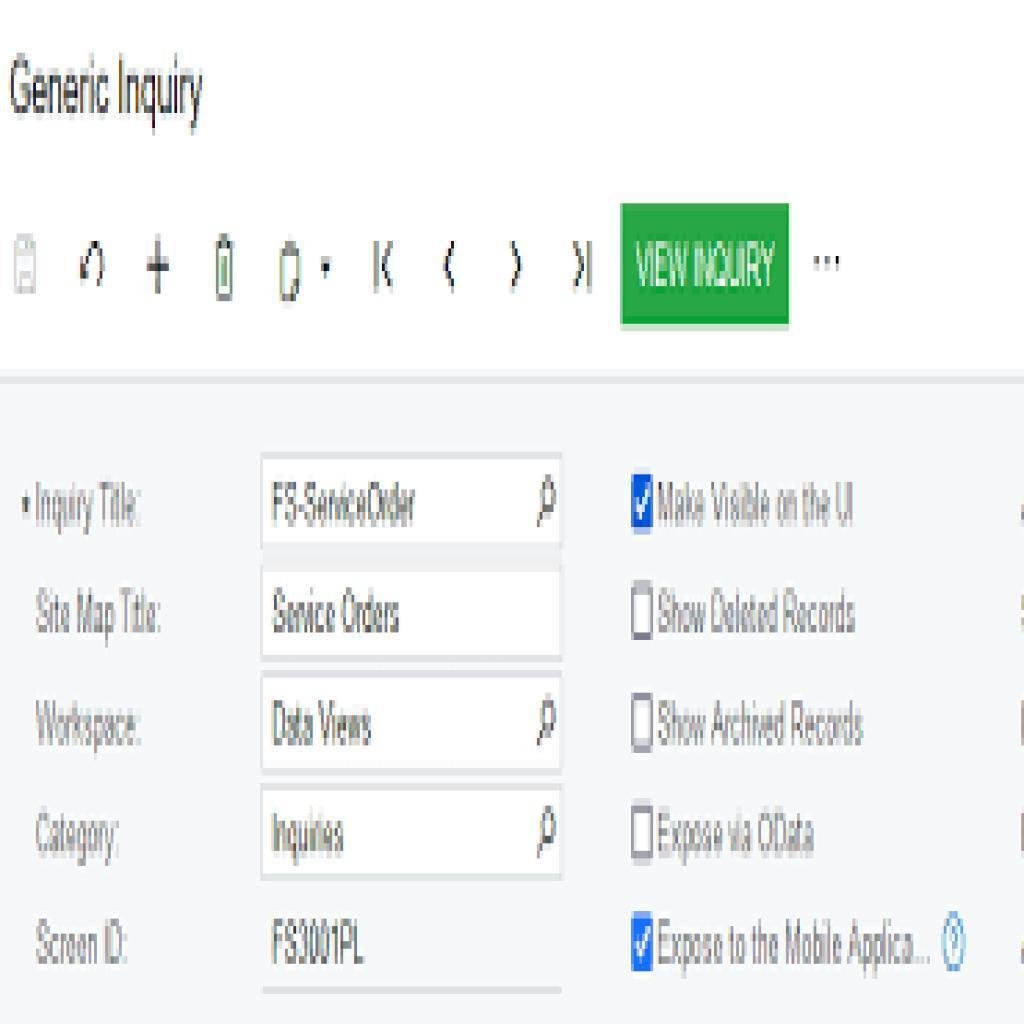button: (619, 205, 788, 325)
checkbox: (631, 692, 657, 753), (630, 912, 657, 969), (630, 584, 656, 638), (631, 807, 657, 861), (632, 475, 656, 529)
icon: (356, 226, 404, 307), (7, 221, 51, 303), (270, 232, 312, 309), (67, 224, 109, 299), (142, 230, 174, 311), (209, 228, 242, 304), (491, 235, 531, 297), (567, 230, 602, 300), (440, 233, 469, 302), (806, 241, 847, 283), (534, 694, 558, 757), (536, 802, 560, 865), (534, 472, 558, 531)
input: (263, 674, 561, 774), (263, 454, 559, 543), (263, 569, 559, 657), (263, 795, 559, 878)
